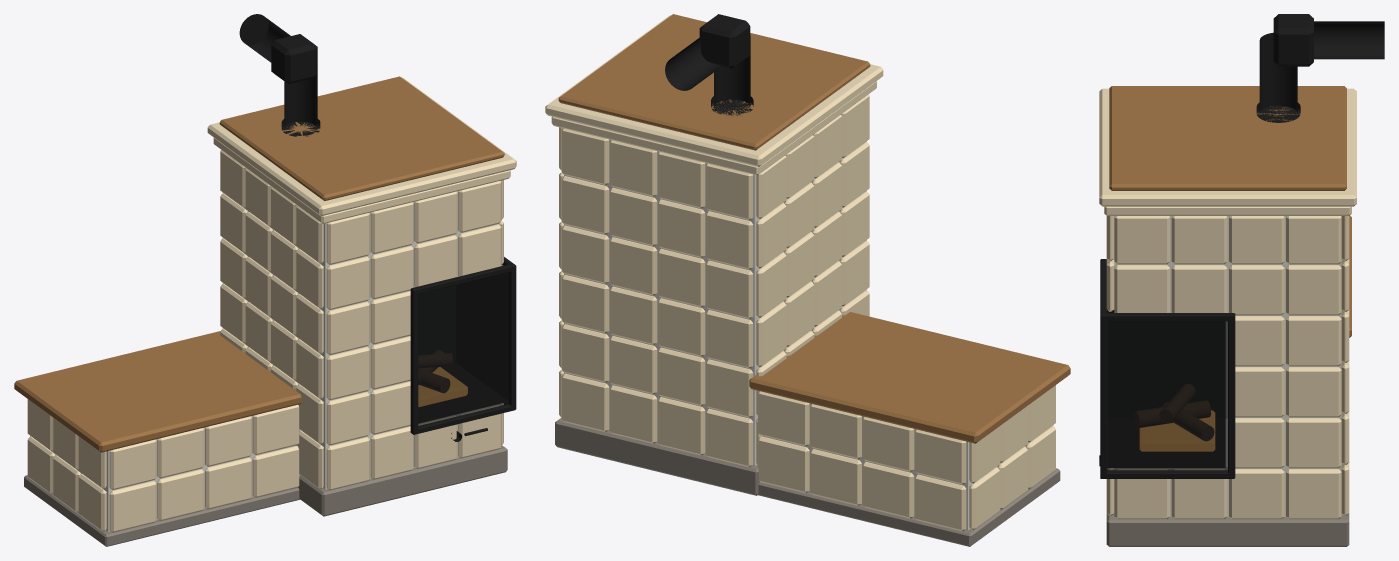
The model's file is kachelofen-eckscheibe.glb.
3 renders of one model, left to right at view 1: azimuth 30°, elevation 25°; view 2: azimuth 150°, elevation 25°; view 3: azimuth 270°, elevation 25°, orthographic. The views are drawn at different scales.
Visible parts, largest first — view 1: Kachel (×50), Auflage, Glas, Feuerraum, Rahmen, Sockel, Sims, Putz, Holz, Glut; view 2: Kachel (×54), Auflage, Sockel, Sims, Rahmen, Putz; view 3: Kachel (×26), Auflage, Glas, Feuerraum, Rahmen, Sims, Sockel, Putz, Holz, Glut.
Boxes of the visible parts, x1,y1,x2,y2 form: Kachel (×50): (27, 150, 501, 532); Auflage: (14, 76, 504, 452); Glas: (418, 265, 508, 425); Feuerraum: (418, 273, 508, 422); Rahmen: (239, 14, 516, 441); Sockel: (24, 445, 507, 546); Sims: (207, 77, 516, 223); Putz: (52, 191, 499, 531); Holz: (418, 350, 452, 392); Glut: (418, 367, 467, 406); Kachel (×54): (561, 94, 1055, 531); Auflage: (558, 14, 1070, 443); Sockel: (555, 417, 1060, 546); Sims: (545, 15, 883, 175); Rahmen: (665, 14, 753, 115); Putz: (564, 139, 1028, 530); Kachel (×26): (1106, 216, 1349, 519); Auflage: (1109, 86, 1351, 337); Glas: (1107, 321, 1227, 470); Feuerraum: (1107, 310, 1225, 467); Rahmen: (1099, 14, 1384, 478); Sims: (1099, 88, 1356, 215); Sockel: (1106, 513, 1349, 546); Putz: (1114, 216, 1341, 517); Holz: (1134, 384, 1213, 440); Glut: (1140, 410, 1214, 451).
Bounding box in the file's own units: 2.03 × 1.99 × 1.13.
